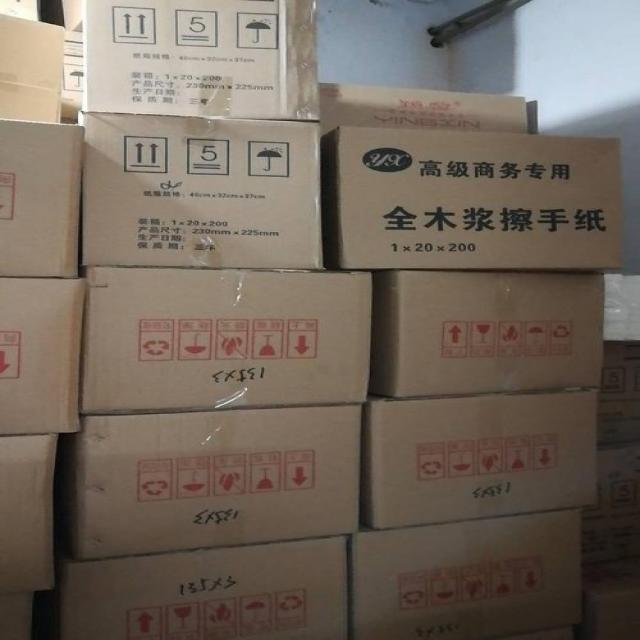box: (319, 123, 634, 272), (55, 403, 360, 556), (83, 264, 371, 413), (82, 113, 329, 268), (364, 388, 597, 527), (367, 267, 608, 399), (57, 535, 355, 638), (354, 507, 586, 637), (83, 0, 322, 120), (0, 274, 88, 436), (0, 118, 87, 277), (320, 82, 528, 137), (0, 437, 56, 595), (580, 442, 637, 581), (0, 12, 66, 125), (600, 336, 637, 444), (583, 580, 639, 636), (60, 27, 87, 120), (0, 594, 37, 638), (495, 620, 586, 636), (58, 1, 87, 27), (3, 1, 40, 20)
